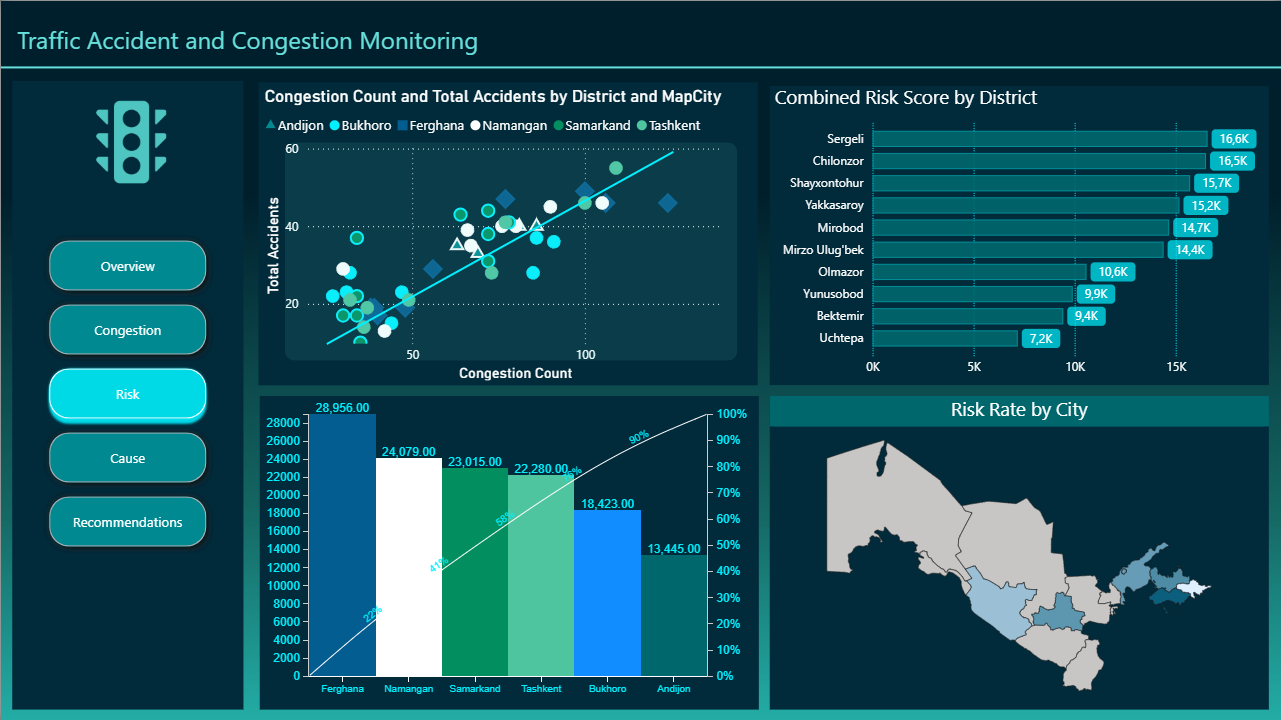

The page's visual inventory and layout, read from the dashboard file:
{"tool":"powerbi","page":{"name":"Risk ","canvas":[1280,720],"ordinal":2},"visuals":[{"type":"shape","box":[11.4,80,231.4,628.6],"z":0},{"type":"shape","box":[0,60,1280,12.9],"z":1000},{"type":"textbox","box":[11.4,17.1,492.9,42.9],"z":2000},{"type":"image","box":[64.3,97.1,134.3,87.1],"z":3000},{"type":"shape","box":[257.7,81,499.4,303.1],"z":4000},{"type":"shape","box":[258.2,394.5,499.1,313.6],"z":5000},{"type":"shape","box":[768.2,394.5,499.1,313.6],"z":6000},{"type":"scatterChart","fields":{"X":["All measures.Congestion Count"],"Category":["Regions.District"],"Series":["Regions.MapCity"],"Y":["All measures.Total Accidents"]},"box":[258.9,84.7,478.5,299.4],"z":7000},{"type":"shape","box":[284.3,141.4,452.9,218.6],"z":8000},{"type":"paretoEDD8E69761BA4B7BB3AA6D813990D7BF","fields":{"categories":["Regions.MapCity"],"values":["All measures.Combined Risk Score"]},"box":[259.1,394.5,497.3,313.6],"z":9000},{"type":"shape","box":[768.2,84.5,499.1,299.1],"z":10000},{"type":"clusteredBarChart","fields":{"Category":["Regions.District"],"Y":["All measures.Combined Risk Score"]},"box":[768.2,82.7,499.1,300.9],"z":11000},{"type":"shapeMap","title":"Risk Rate by City","fields":{"Category":["Regions.MapCity"],"Value":["All measures.Combined Risk Score"]},"box":[768.2,394.5,499.1,313.6],"z":12000},{"type":"shape","box":[325.5,133.6,348.2,226.4],"z":13000},{"type":"pageNavigator","box":[41,233,171,323],"z":14000}]}

Visuals, with their boxes in screenshot pixels (x1, y1, x2, y2), scaled from the page's 1280x720 canvas onto the 1281x720 screenshot:
shape: locate(11, 80, 243, 709)
shape: locate(0, 60, 1280, 73)
textbox: locate(11, 17, 505, 60)
image: locate(64, 97, 199, 184)
shape: locate(258, 81, 758, 384)
shape: locate(258, 394, 758, 708)
shape: locate(769, 394, 1268, 708)
scatterChart - All measures.Congestion Count x Regions.District: locate(259, 85, 738, 384)
shape: locate(285, 141, 738, 360)
paretoEDD8E69761BA4B7BB3AA6D813990D7BF - Regions.MapCity x All measures.Combined Risk Score: locate(259, 394, 757, 708)
shape: locate(769, 84, 1268, 384)
clusteredBarChart - Regions.District x All measures.Combined Risk Score: locate(769, 83, 1268, 384)
"Risk Rate by City" shapeMap: locate(769, 394, 1268, 708)
shape: locate(326, 134, 674, 360)
pageNavigator: locate(41, 233, 212, 556)
